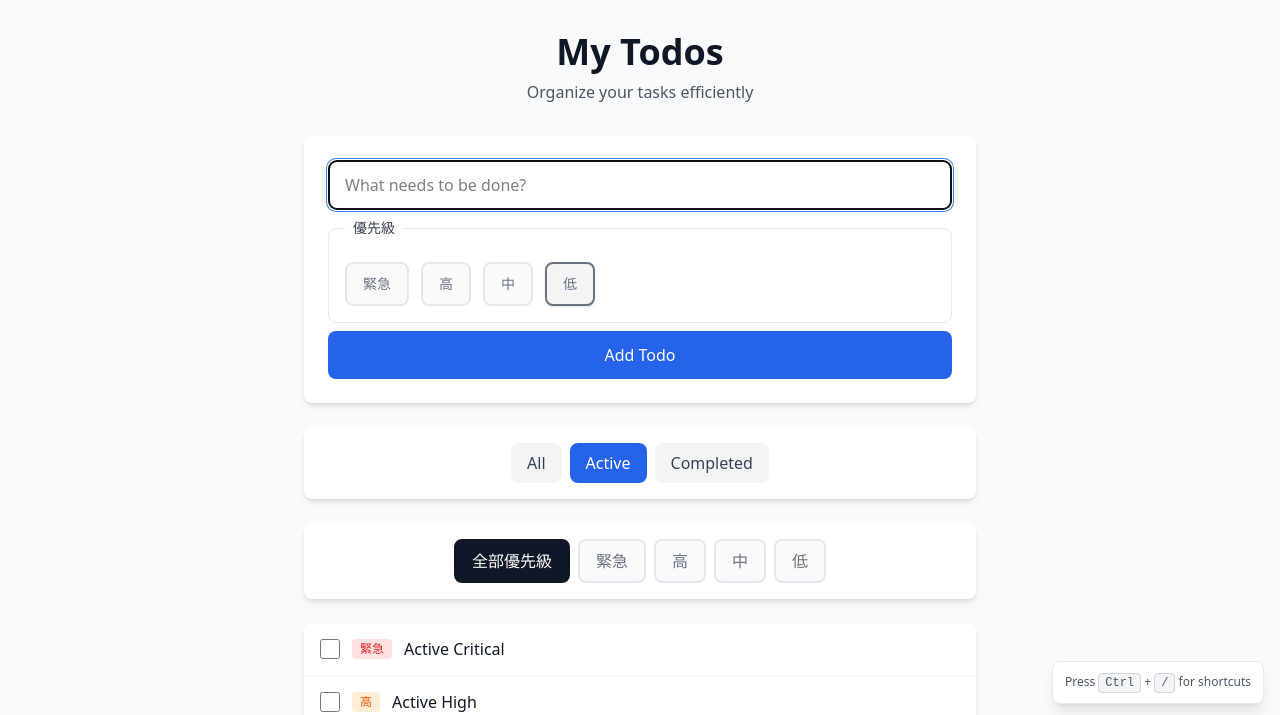
Test: TodoList › Priority Filter Functionality (CR-002) › should combine completion status and priority filters
Filter by CRITICAL priority
Step 1. Click the button "緊急" → [612, 561], box [578, 539, 646, 583]
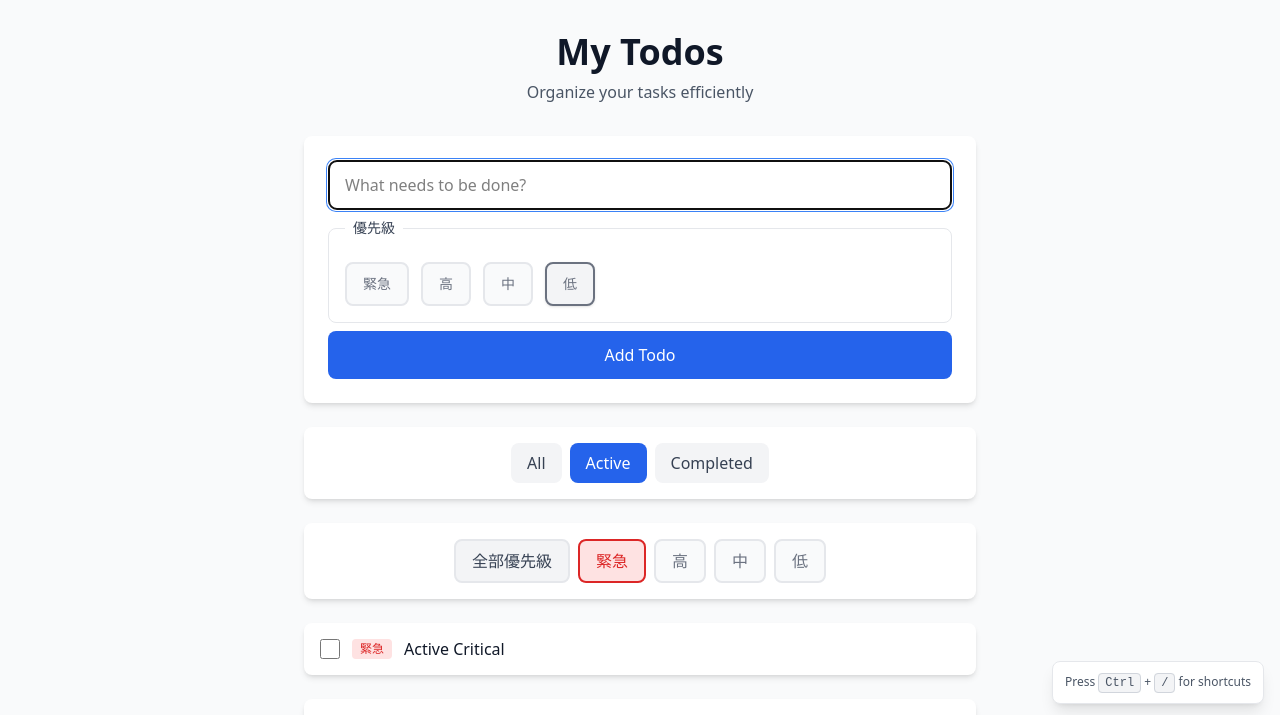
Expected: the button "Active Critical" is shown, [404, 638, 505, 660]
Result: the button "Active High" is gone
